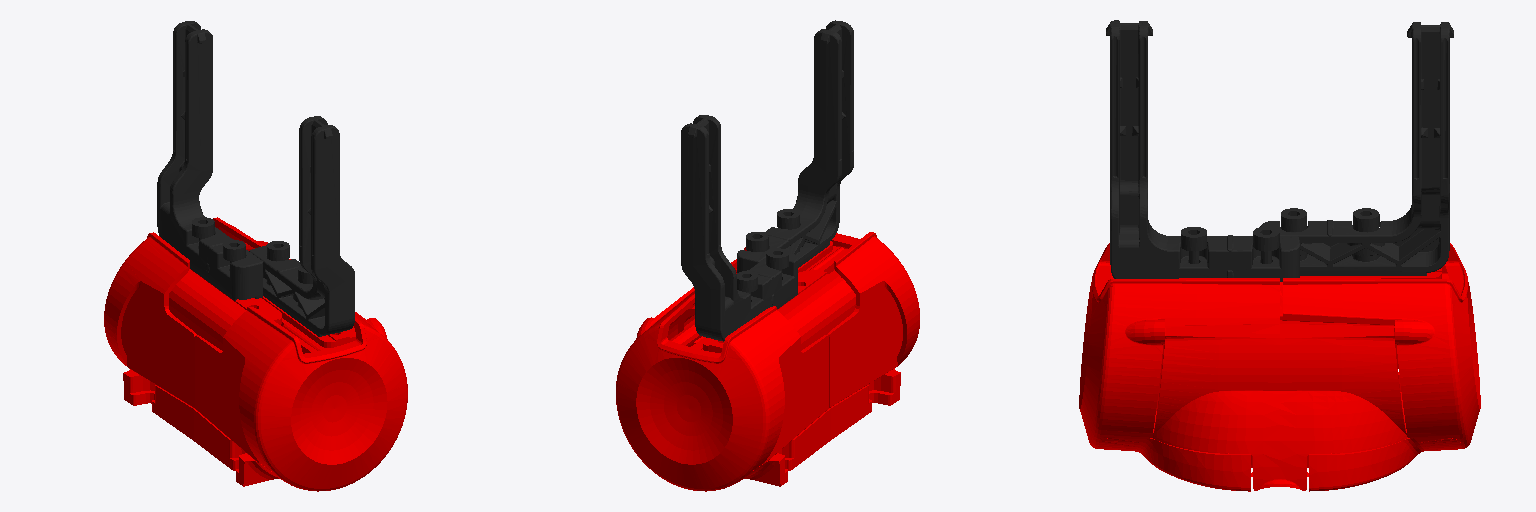
URDF robot description (sawyer):
<?xml version="1.0"?>
<robot name="sawyer">
    
    <material name="Black">
        <color rgba="0.2 0.2 0.2 1"/>
    </material>

    <material name="Red">
        <color rgba="1.0 0.0 0.0 1"/>
    </material>

    <link name="base_link">
        <visual>
            <origin rpy="1.5707963 0 0" xyz="0 0 0"/>
            <geometry>
                <mesh filename="./meshes/base.stl"/> 
            </geometry>
            <material name="Red"/>
        </visual>
    </link>

    <link name="leftfinger">
        <visual>
            <origin rpy="0 0 0" xyz="0 0 0"/>
            <geometry>
                <mesh filename="./meshes/standard_narrow.stl"/>
            </geometry>
            <material name="Black"/>
        </visual>
    </link>

    <link name="rightfinger">
        <visual>
            <origin rpy="0 0 0" xyz="0 0 0"/>
            <geometry>
                <mesh filename="./meshes/standard_narrow.stl"/>
            </geometry>
            <material name="Black"/>
        </visual>
    </link>

    <joint name="finger_joint1" type="prismatic">
        <parent link="base_link"/>
        <child link="leftfinger"/>
        <origin rpy="0 0 0" xyz="0.003 -0.023 0.04552"/>
        <axis xyz="0 1 0"/>
        <limit effort="20" lower="0.0" upper="0.04" velocity="10"/>
    </joint>

    <joint name="finger_joint2" type="prismatic">
        <parent link="base_link"/>
        <child link="rightfinger"/>
        <origin rpy="0 0 -3.1415926" xyz="0.003 0.023 0.04552"/>
        <axis xyz="0 1 0"/>
        <limit effort="20" lower="0.0" upper="0.04" velocity="10"/>
    </joint>

</robot>

--- Facts derived from the render (not from the file) ---
The picture shows the robot from 3 angles, left to right: view 1: azimuth 30°, elevation 25°; view 2: azimuth 150°, elevation 25°; view 3: azimuth 270°, elevation 25°; orthographic projection.
Model sawyer with 3 links and 2 joints (2 prismatic), rooted at base_link, posed all joints at 0.
Visible links, largest first — view 1: base_link, rightfinger, leftfinger; view 2: base_link, rightfinger, leftfinger; view 3: base_link, leftfinger, rightfinger.
Link boxes in pixels (bbox=[...]): base_link: bbox=[104, 217, 407, 491]; rightfinger: bbox=[157, 21, 262, 300]; leftfinger: bbox=[249, 116, 354, 336]; base_link: bbox=[616, 232, 919, 491]; rightfinger: bbox=[681, 115, 797, 341]; leftfinger: bbox=[737, 20, 853, 272]; base_link: bbox=[1079, 243, 1480, 491]; leftfinger: bbox=[1106, 20, 1299, 281]; rightfinger: bbox=[1260, 22, 1453, 275].
Size in the robot's own frame: 0.0659 by 0.1055 by 0.1209 metres.
3 mesh visuals loaded from 2 distinct referenced files (2 binary STL).